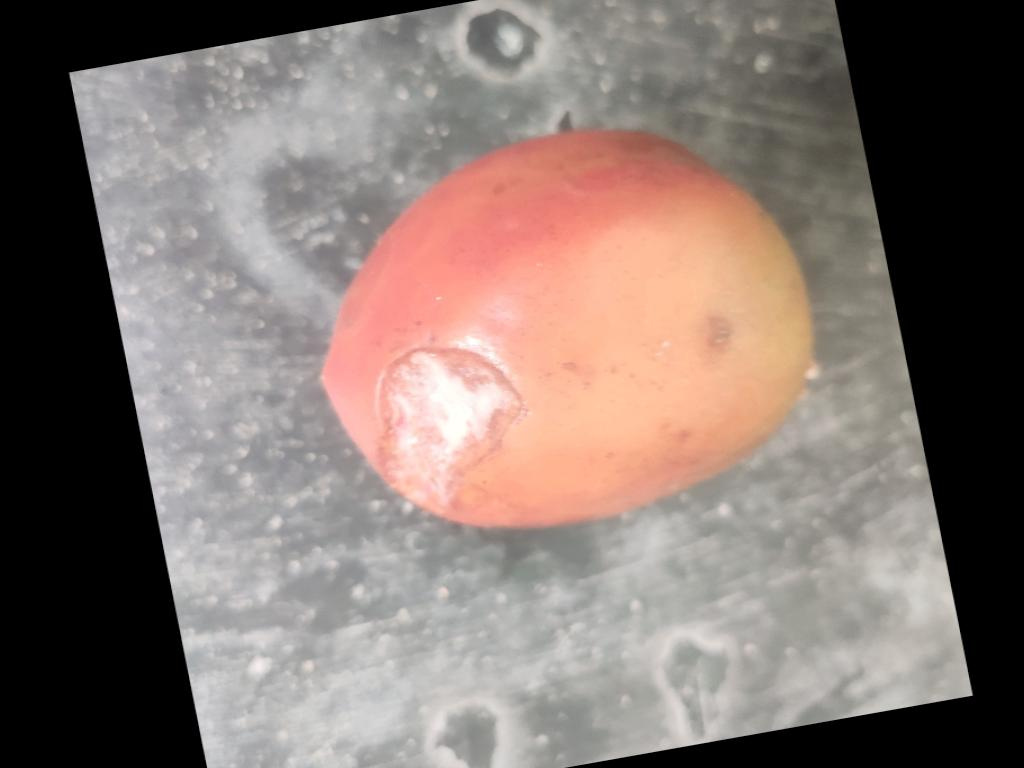rot_mold_decay: (378, 348, 522, 502)
tomato: (324, 130, 812, 526)
